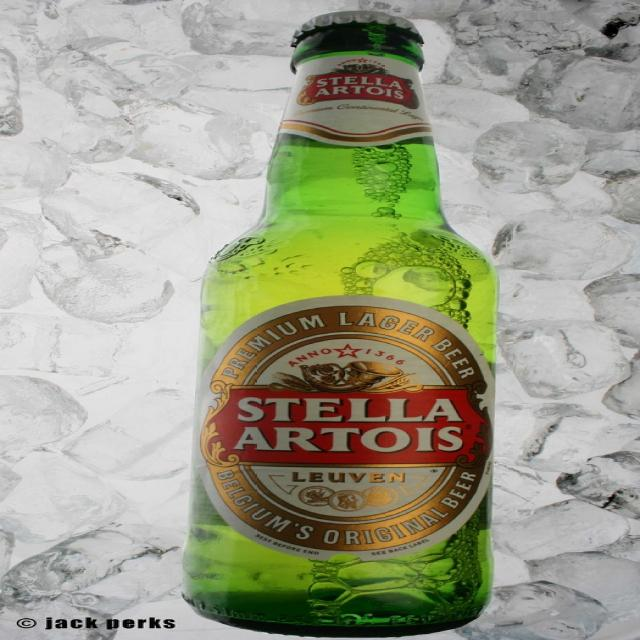stellaartois: (201, 308, 491, 550), (292, 59, 423, 111)
